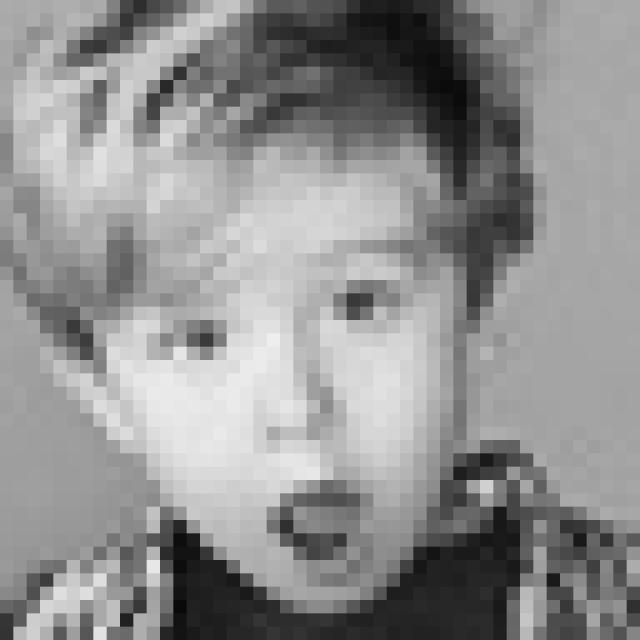surprise: (146, 232, 434, 588)
